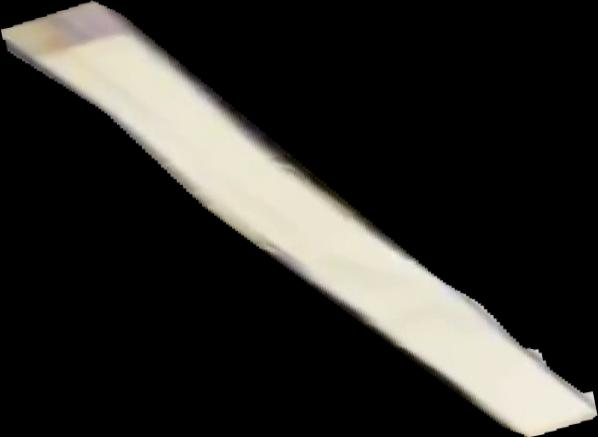backward: (1, 1, 598, 437)
